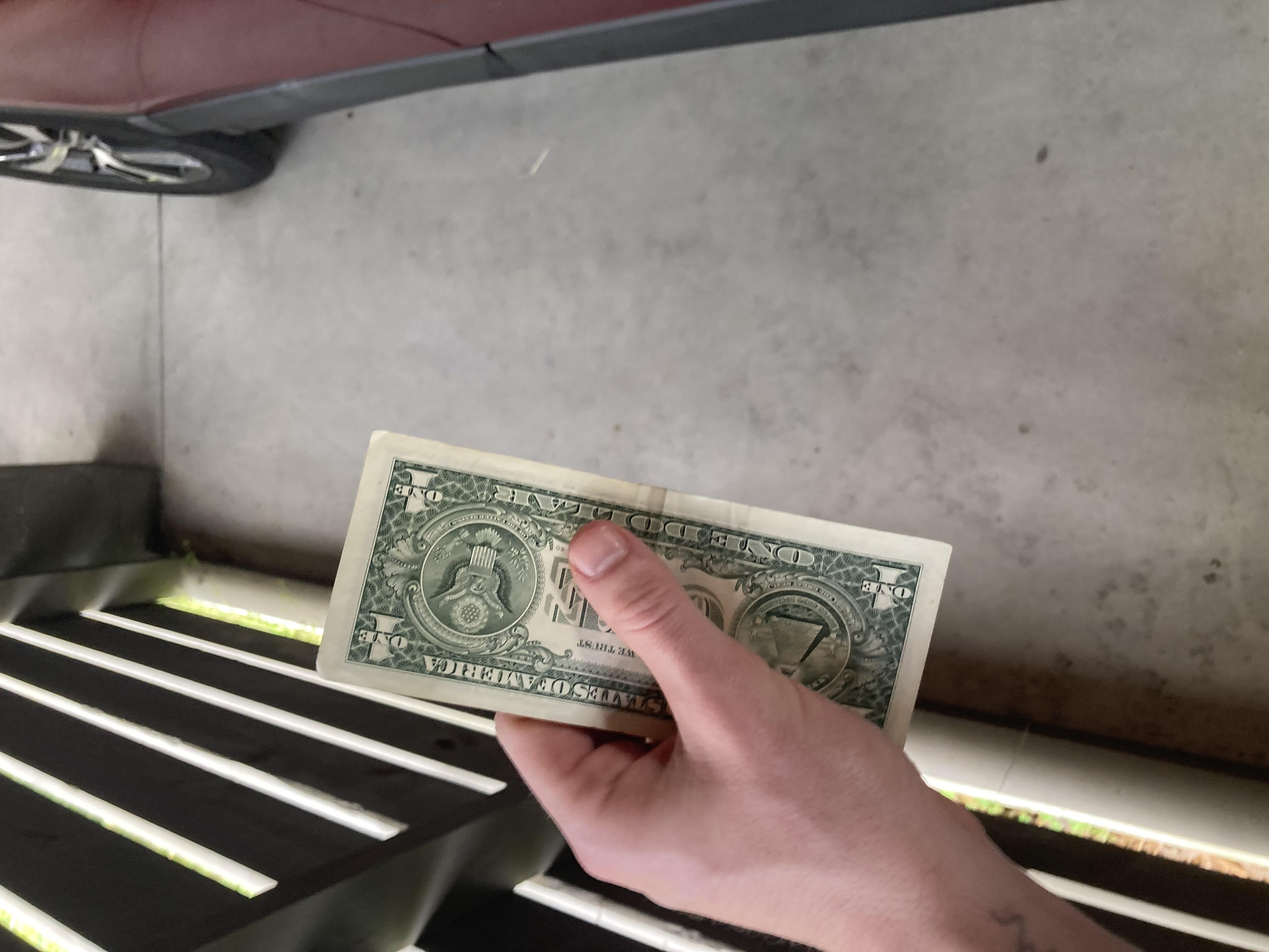one-back: (214, 234, 701, 718)
